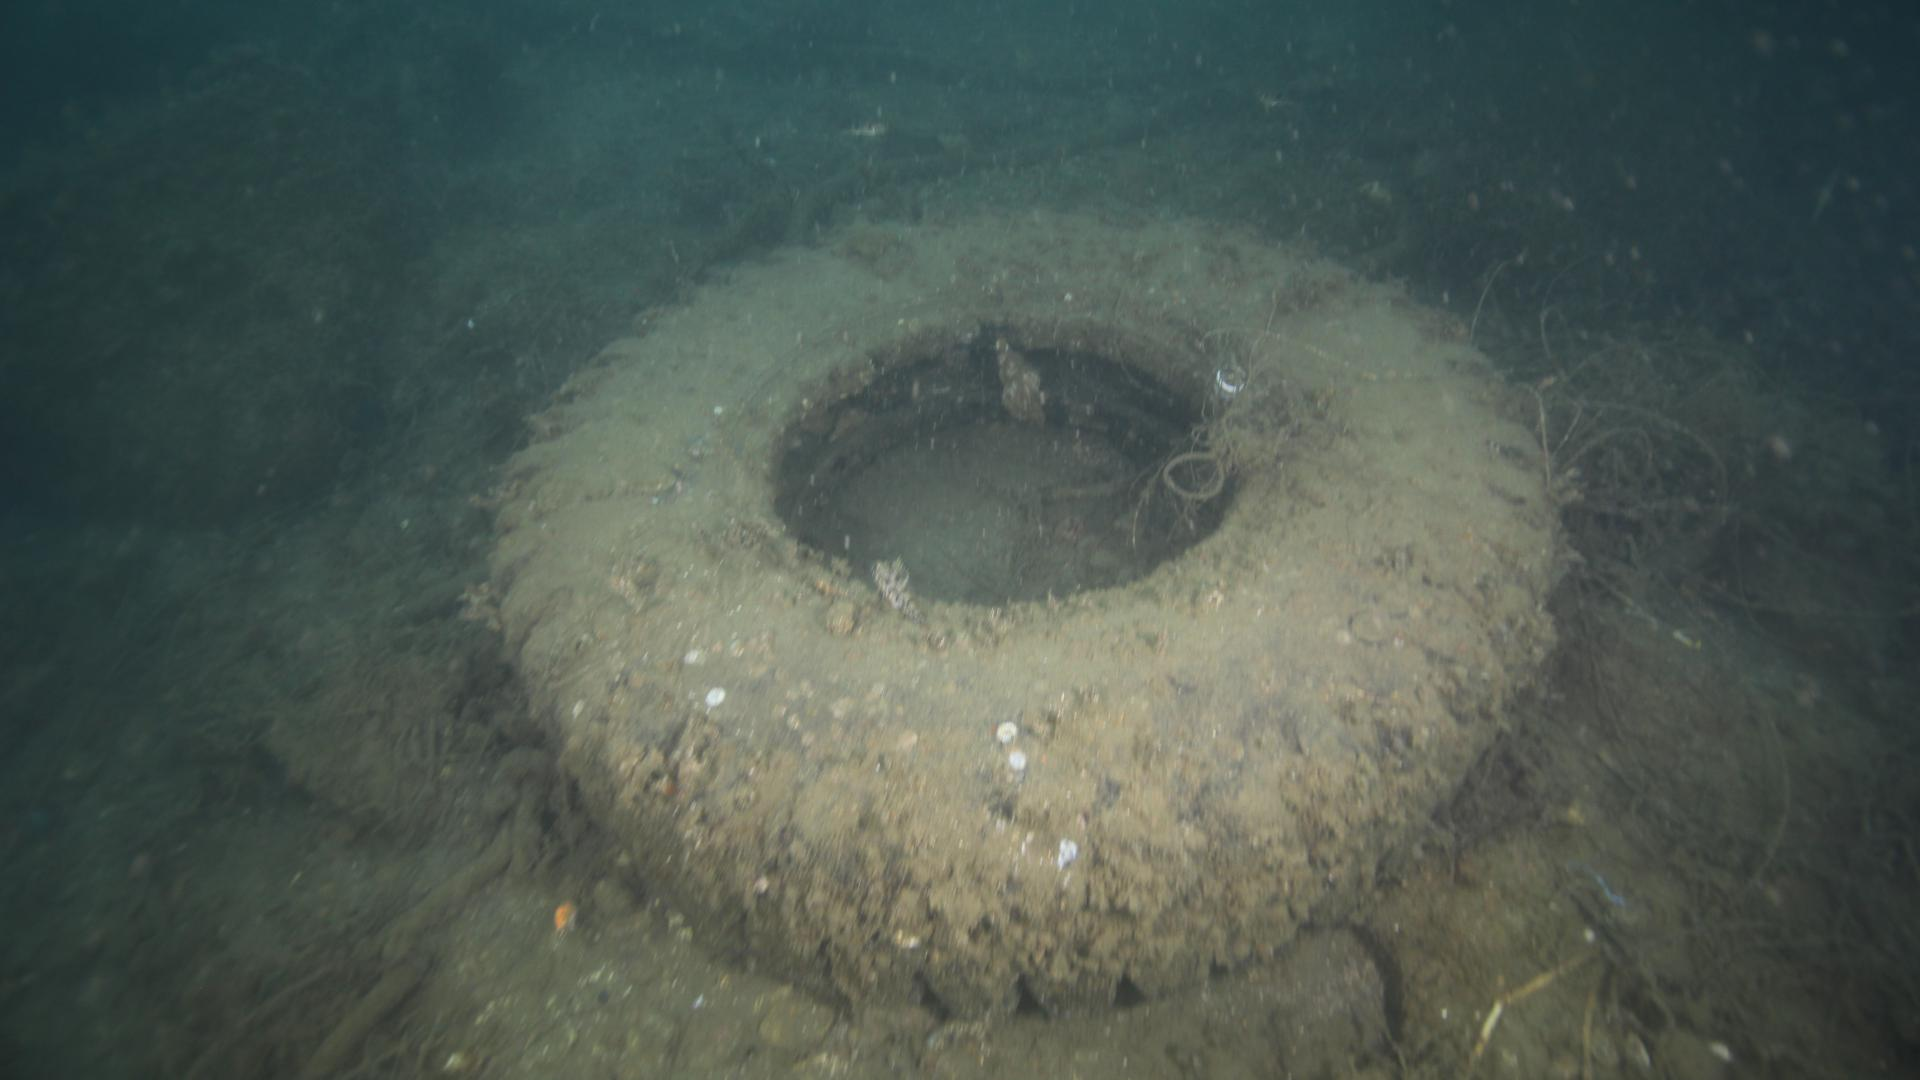tire: (481, 210, 1567, 1027)
